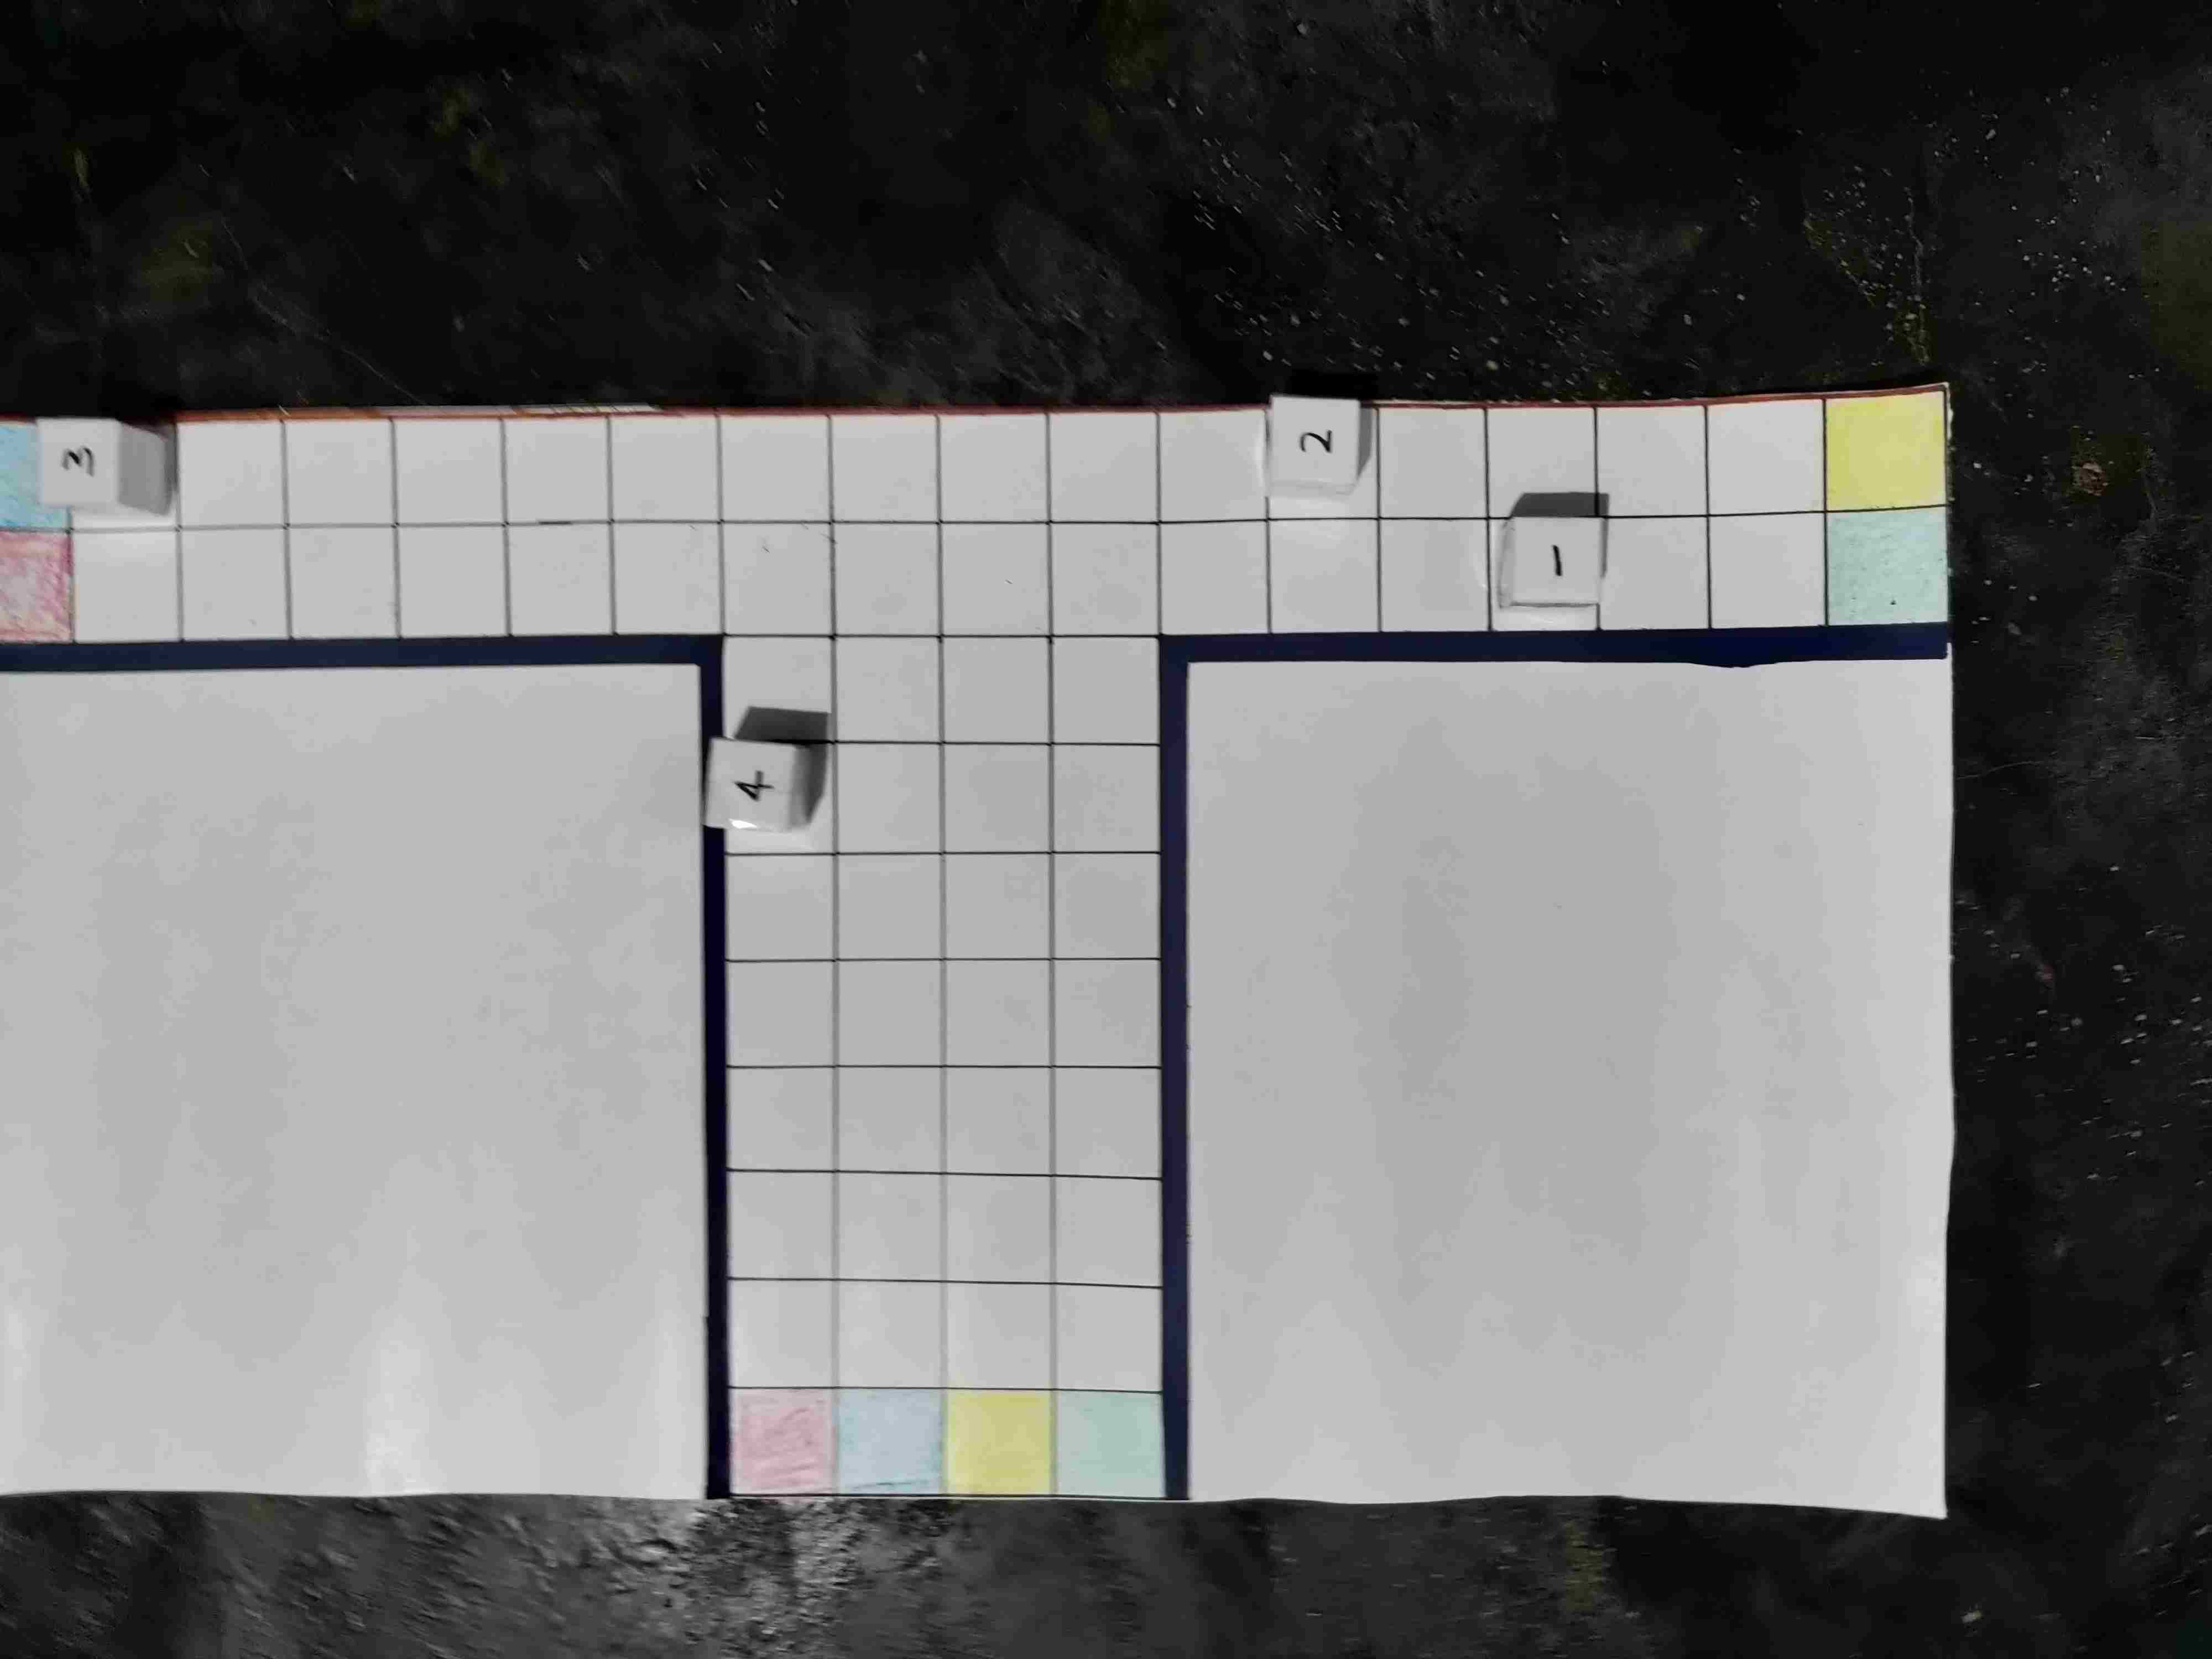arena: (3, 387, 1944, 1514)
bot: (1510, 512, 1604, 608), (1268, 392, 1360, 484), (707, 734, 796, 830), (38, 416, 120, 505)
